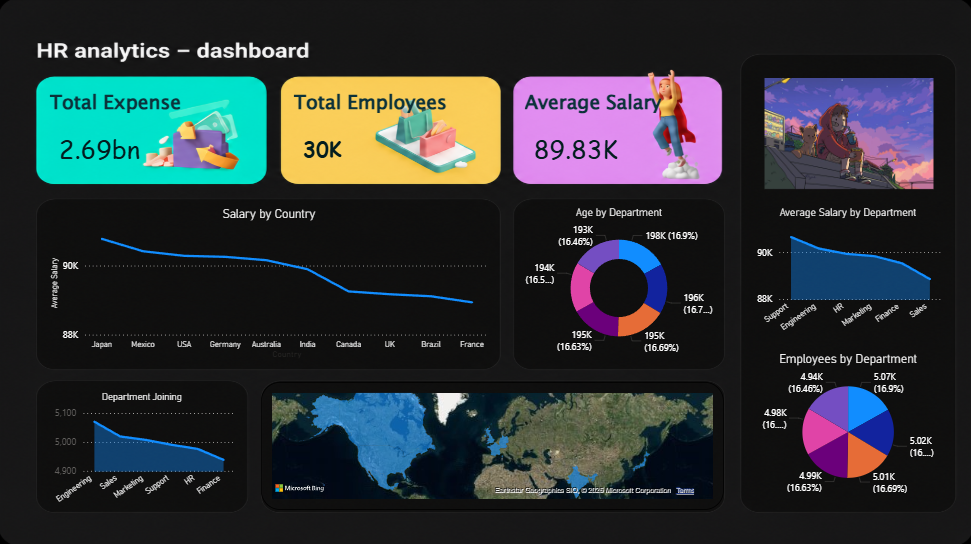

Layout of this report page (visuals, bound fields, positions):
{"tool":"powerbi","page":{"name":"Page 1","canvas":[1280,720],"ordinal":0},"visuals":[{"type":"cardVisual","title":"Total Expense","fields":{"Data":["company employee_records.Total Expense"]},"box":[62,118,264,118],"z":0},{"type":"cardVisual","title":"Total Employees","fields":{"Data":["company employee_records.Total Employees"]},"box":[382,118,258,118],"z":1000},{"type":"cardVisual","title":"Average Salary","fields":{"Data":["company employee_records.Average Salary"]},"box":[686,118,258,118],"z":2000},{"type":"filledMap","fields":{"Category":["company employee_records.Country"]},"box":[344.1,505.1,608.3,167.9],"z":3000},{"type":"stackedAreaChart","title":"Department Joining","fields":{"Category":["company employee_records.Department"],"Y":["CountNonNull(company employee_records.Employee Category)"]},"box":[61.9,516.1,251.9,156.9],"z":4000},{"type":"lineChart","title":"Salary by Country","fields":{"Y":["company employee_records.Average Salary"],"Category":["company employee_records.Country"]},"box":[61.9,273.9,586.3,205.1],"z":5000},{"type":"donutChart","title":"Age by Department","fields":{"Category":["company employee_records.Department"],"Y":["Sum(company employee_records.Age_Distinct)"]},"box":[685.4,273.9,257.4,199.6],"z":6000},{"type":"pieChart","title":"Employees by Department","fields":{"Category":["company employee_records.Department"],"Y":["Count(company employee_records.Employee_ID)"]},"box":[996.5,463.8,239.5,194.1],"z":7000},{"type":"stackedAreaChart","title":"Average Salary by Department","fields":{"Category":["company employee_records.Department"],"Y":["Avg(company employee_records.Salary)"]},"box":[988.2,273.9,254.6,180.3],"z":8000},{"type":"image","box":[1003.4,104.6,225.7,145.9],"z":9000}]}

Visuals, with their boxes in screenshot pixels (x1, y1, x2, y2), scaled from the page's 1280x720 canvas onto the 971x544 screenshot:
"Total Expense" cardVisual: <box>47,89,247,178</box>
"Total Employees" cardVisual: <box>290,89,486,178</box>
"Average Salary" cardVisual: <box>520,89,716,178</box>
filledMap - company employee_records.Country: <box>261,382,722,508</box>
"Department Joining" stackedAreaChart: <box>47,390,238,508</box>
"Salary by Country" lineChart: <box>47,207,492,362</box>
"Age by Department" donutChart: <box>520,207,715,358</box>
"Employees by Department" pieChart: <box>756,350,938,497</box>
"Average Salary by Department" stackedAreaChart: <box>750,207,943,343</box>
image: <box>761,79,932,189</box>
